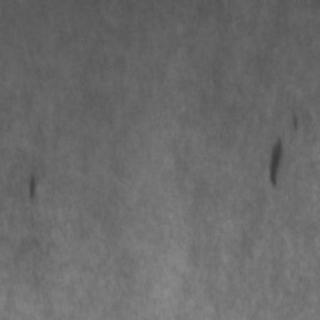inclusion: (264, 110, 300, 186), (22, 167, 38, 211)
